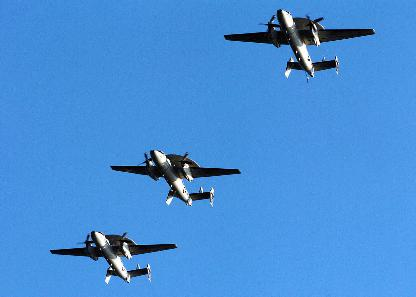C5: (224, 9, 374, 83), (110, 149, 240, 206), (49, 230, 177, 283)
